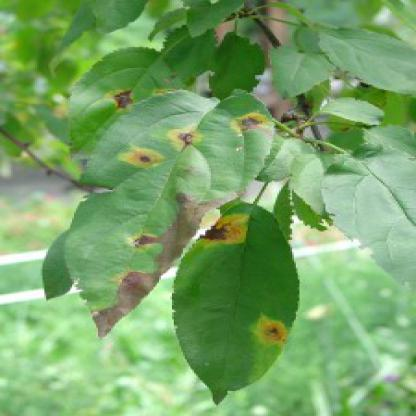apple scab leaf: (70, 82, 259, 348), (163, 198, 307, 409)
